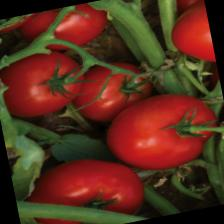tomato: (98, 84, 224, 180), (18, 148, 150, 224), (0, 43, 92, 124), (64, 54, 160, 128)
